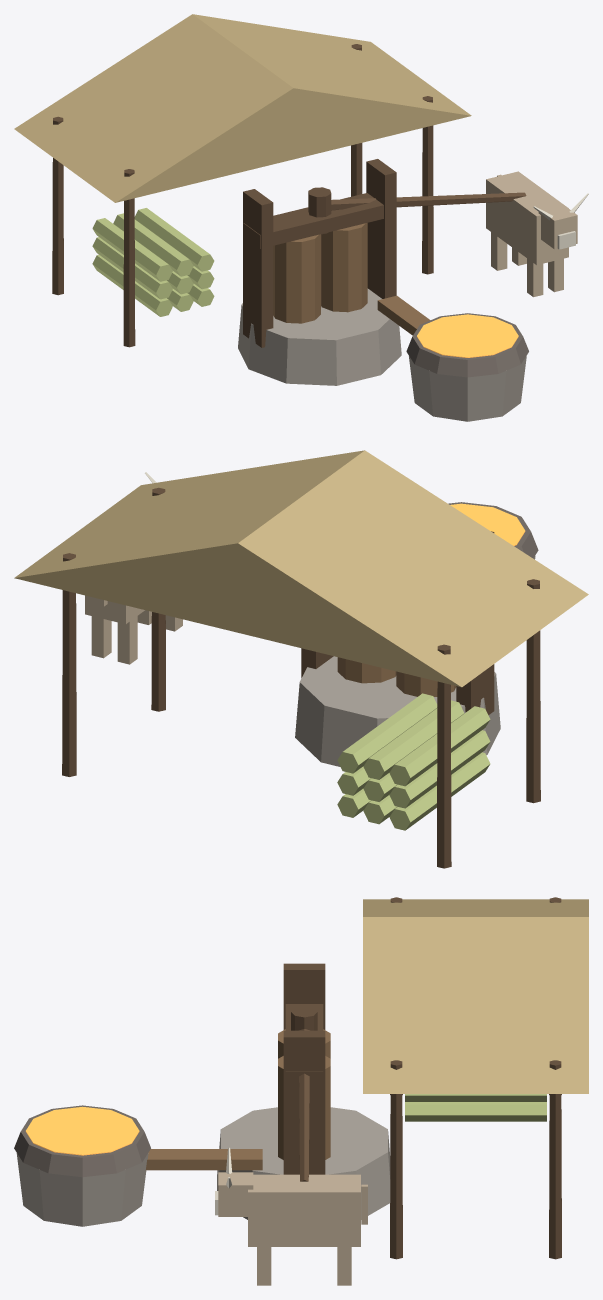
The model's file is trapiche.glb.
3 views of the same model, one above another, from view 1: azimuth 30°, elevation 25°; view 2: azimuth 150°, elevation 25°; view 3: azimuth 270°, elevation 25° (orthographic). The views are drawn at different scales.
Visible parts, largest first — view 1: FG_Trapiche, FG_Trapiche_Yunta; view 2: FG_Trapiche, FG_Trapiche_Yunta; view 3: FG_Trapiche, FG_Trapiche_Yunta.
Part boxes in pixels (x1=…): FG_Trapiche: x1=14, y1=14, x2=528, y2=421; FG_Trapiche_Yunta: x1=308, y1=171, x2=588, y2=297; FG_Trapiche: x1=14, y1=450, x2=588, y2=868; FG_Trapiche_Yunta: x1=85, y1=472, x2=182, y2=664; FG_Trapiche: x1=14, y1=897, x2=588, y2=1259; FG_Trapiche_Yunta: x1=215, y1=1006, x2=367, y2=1285.
Bounding box in the file's own units: 6.38 × 3.6 × 6.87.
